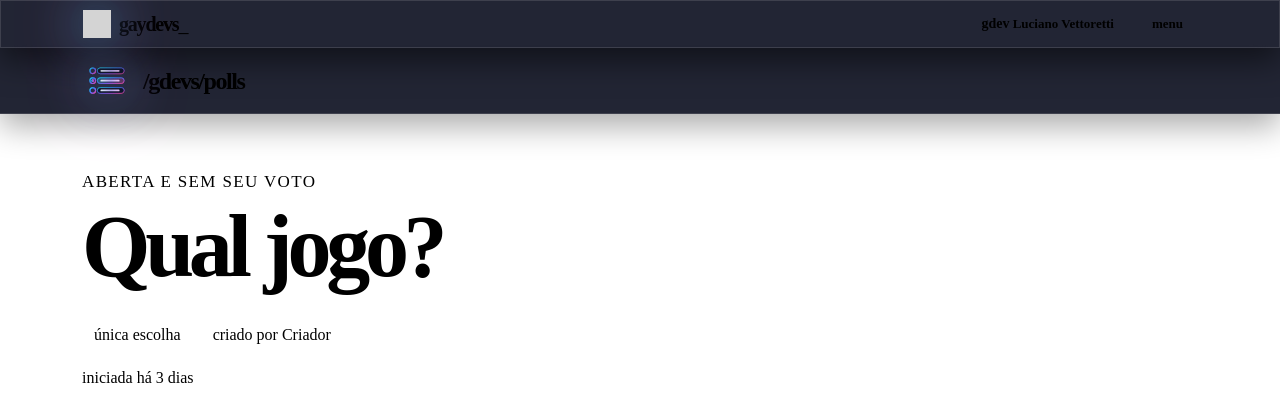
Test: poll landing authentication › restores the fixed polls submenu after returning from a poll and scrolling
The width and height of the screenshot is (1280, 400).
Step 1. Click the link with aria-label "abrir enquetes" → (163, 80), box 82,56 -> 244,105
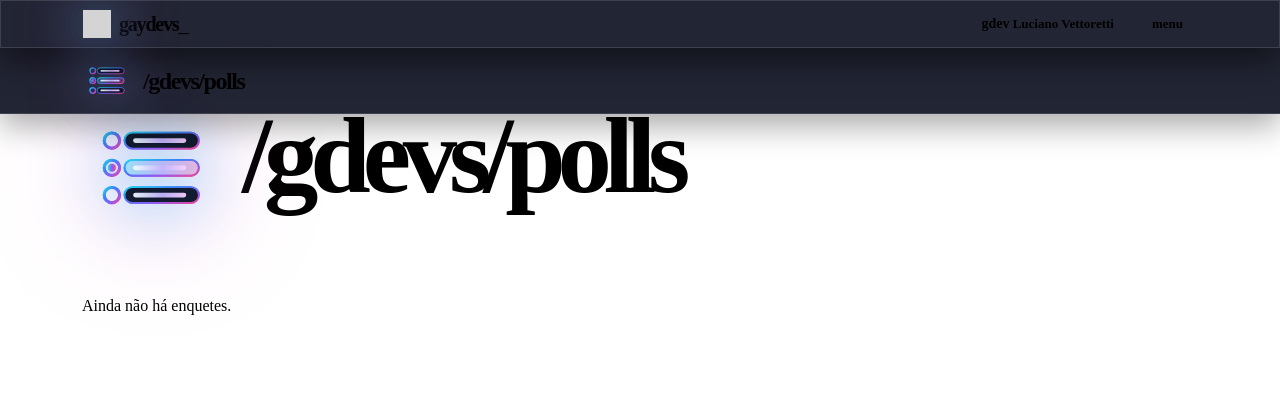
Now the heading "/gdevs/polls" is shown, box 82,88 -> 682,245
